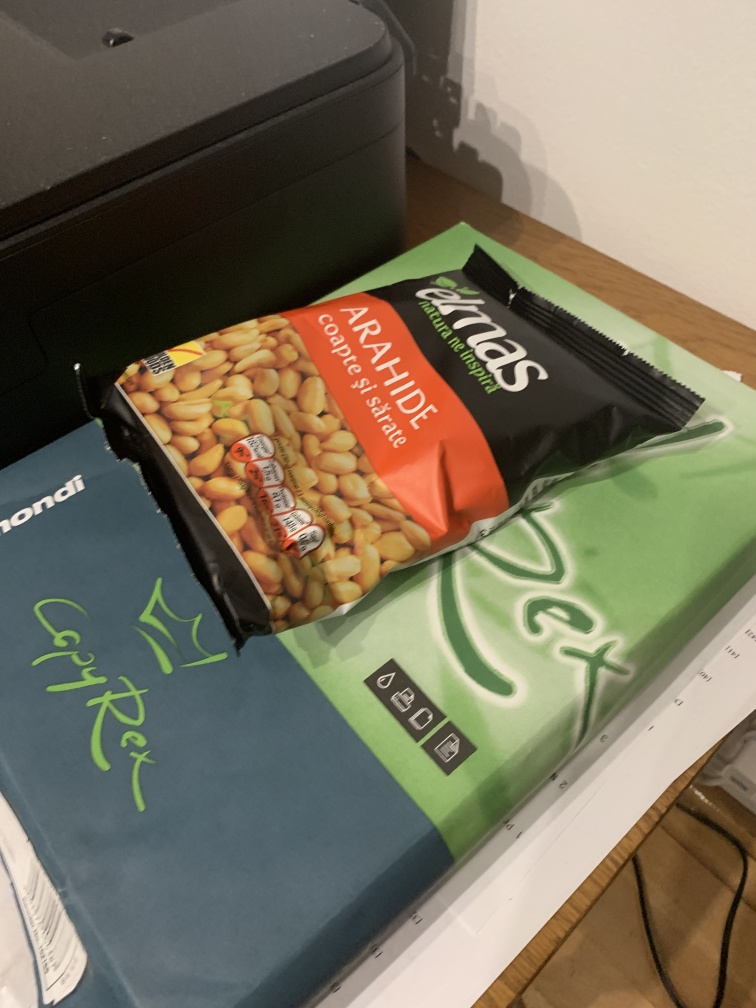peanuts: (71, 241, 715, 666)
